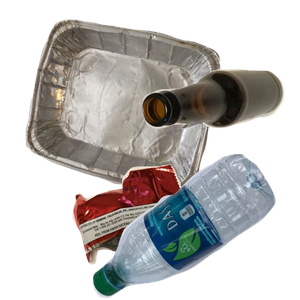glass: (140, 67, 300, 188)
metal: (23, 17, 236, 197)
plastic: (90, 154, 300, 300)
trash: (70, 162, 257, 300)
